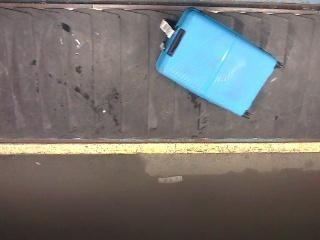Suitcase: (157, 7, 278, 115)
